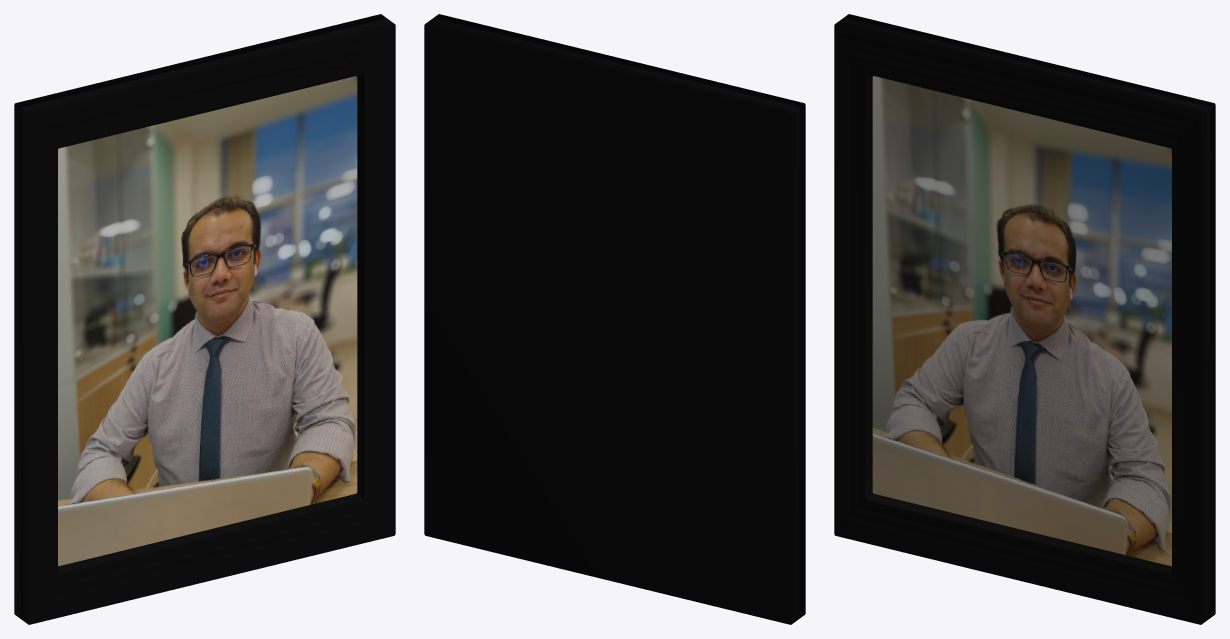
The model's file is RoohiPic.glb.
3 views of the same model, side by side, from view 1: azimuth 30°, elevation 25°; view 2: azimuth 150°, elevation 25°; view 3: azimuth 330°, elevation 25° (orthographic).
Visible parts, largest first — view 1: Cube.003; view 2: Cube.003; view 3: Cube.003.
Boxes of the visible parts, bbox=[...] form: Cube.003: bbox=[14, 14, 395, 624]; Cube.003: bbox=[424, 14, 805, 624]; Cube.003: bbox=[834, 14, 1215, 624].
Size of the model in its own units: 1.5 by 2 by 0.0972.
2 materials, 1 textured.
